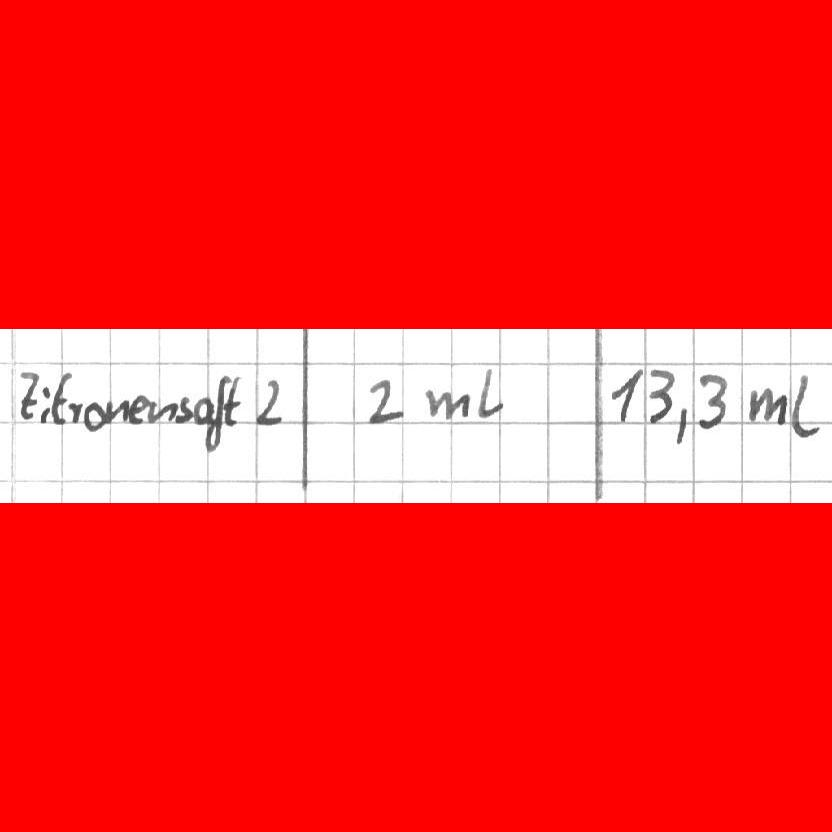Char: (790, 373, 823, 440), (609, 367, 645, 428), (694, 372, 727, 429), (203, 372, 226, 453), (645, 365, 676, 424), (748, 384, 789, 427), (366, 378, 404, 424), (423, 386, 469, 421), (219, 375, 244, 437), (476, 367, 503, 419), (255, 376, 281, 427), (17, 368, 38, 422), (50, 371, 71, 425), (149, 398, 175, 425), (127, 393, 149, 424), (104, 396, 126, 427), (83, 400, 103, 434), (192, 394, 213, 425), (675, 405, 689, 443), (176, 394, 192, 424), (40, 386, 52, 422), (66, 400, 84, 424)
